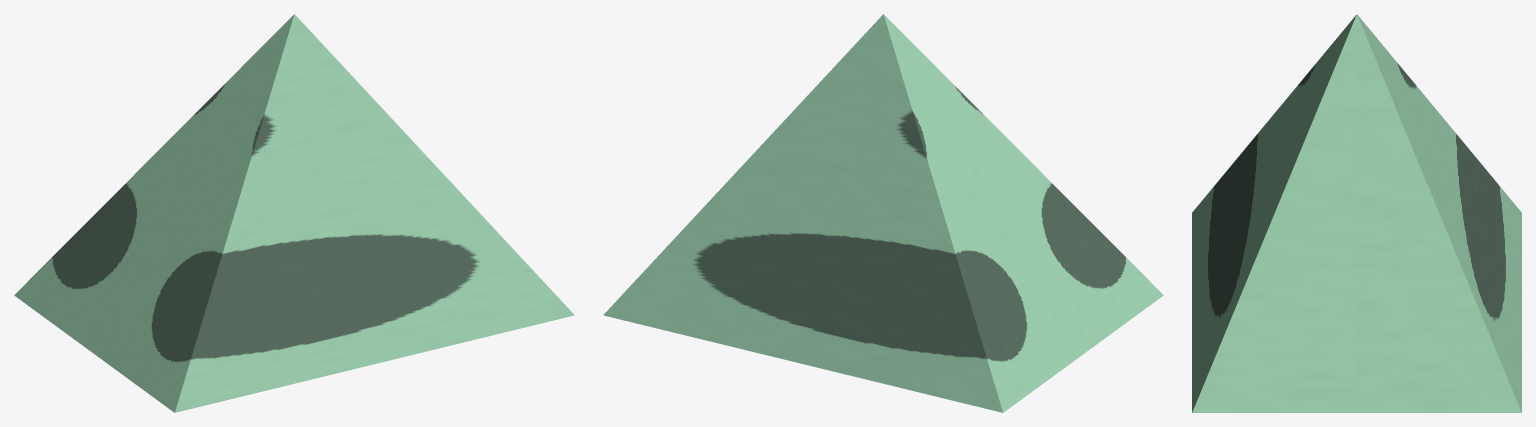
The picture shows the model from 3 angles, left to right: view 1: azimuth 30°, elevation 25°; view 2: azimuth 150°, elevation 25°; view 3: azimuth 270°, elevation 25°; orthographic projection. The views are drawn at different scales.
Parts seen in each view (by area): view 1: geometry_0; view 2: geometry_0; view 3: geometry_0.
Part boxes in pixels (x1,y1,x2,y2): geometry_0: [14, 14, 574, 412]; geometry_0: [603, 14, 1163, 412]; geometry_0: [1192, 14, 1521, 412].
Bounding box in the file's own units: 1.23 × 0.8589 × 0.8589.
1 material, 1 textured.
